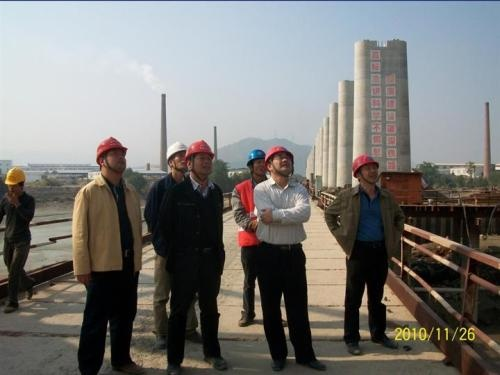blue: (244, 146, 268, 177)
red: (94, 135, 129, 177), (262, 145, 297, 180), (350, 151, 382, 188), (183, 139, 214, 177)
white: (165, 140, 191, 171)
yellow: (3, 167, 28, 194)
